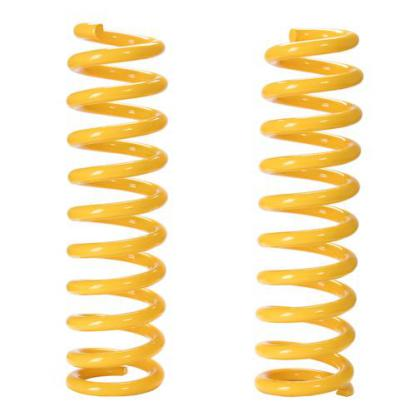FOD: (60, 19, 170, 398), (254, 22, 362, 404)
